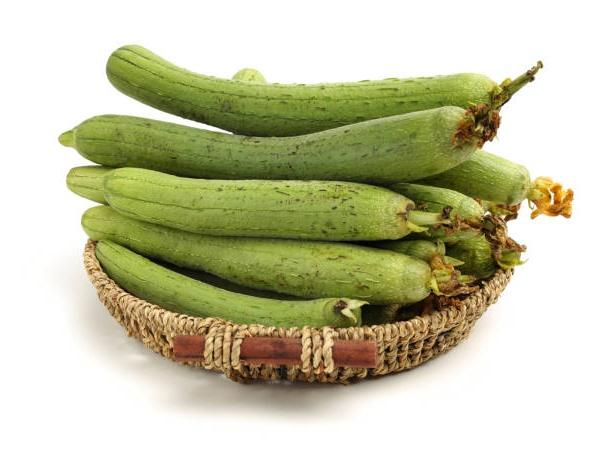peas: (59, 44, 569, 329), (57, 103, 489, 182)
ridge gourd: (81, 232, 518, 385), (103, 43, 513, 137), (421, 148, 573, 219)
